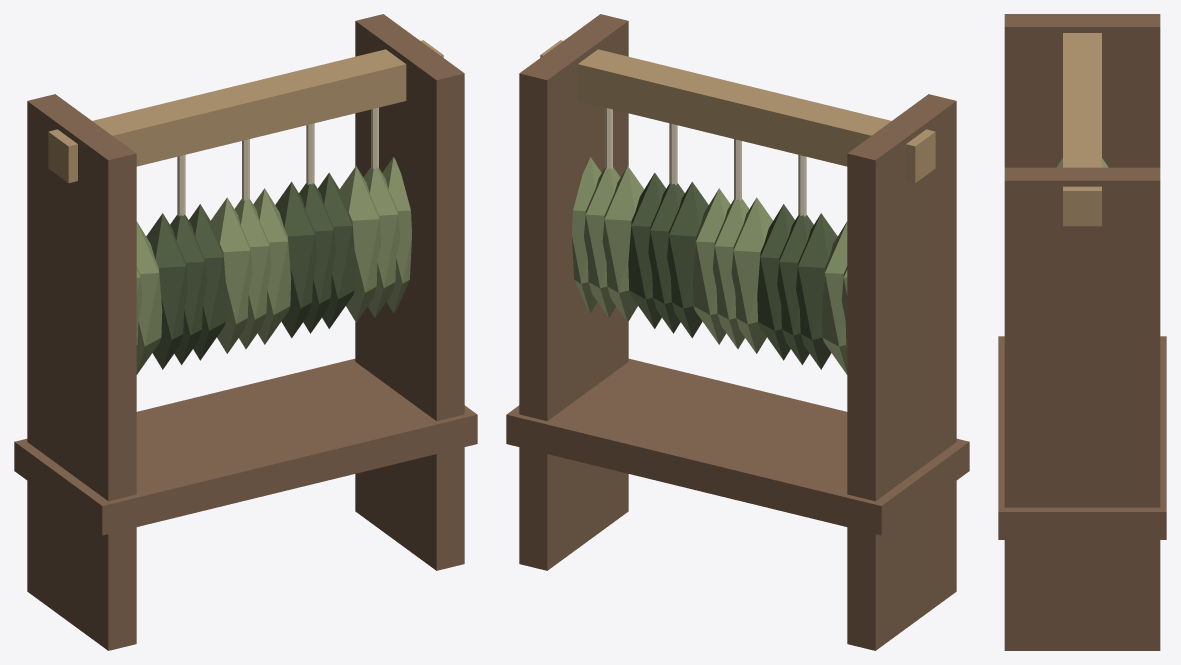
Rendered from var_herb_rack.glb.
The picture shows the model from 3 angles, left to right: view 1: azimuth 30°, elevation 25°; view 2: azimuth 150°, elevation 25°; view 3: azimuth 270°, elevation 25°; orthographic projection. The views are drawn at different scales.
Visible parts, largest first — view 1: var_herb_rack; view 2: var_herb_rack; view 3: var_herb_rack.
Boxes of the visible parts, <box> form: var_herb_rack: <box>14,14,477,650</box>; var_herb_rack: <box>506,14,969,650</box>; var_herb_rack: <box>998,14,1166,650</box>.
Size of the model in its own units: 1.6 by 2 by 0.65.
